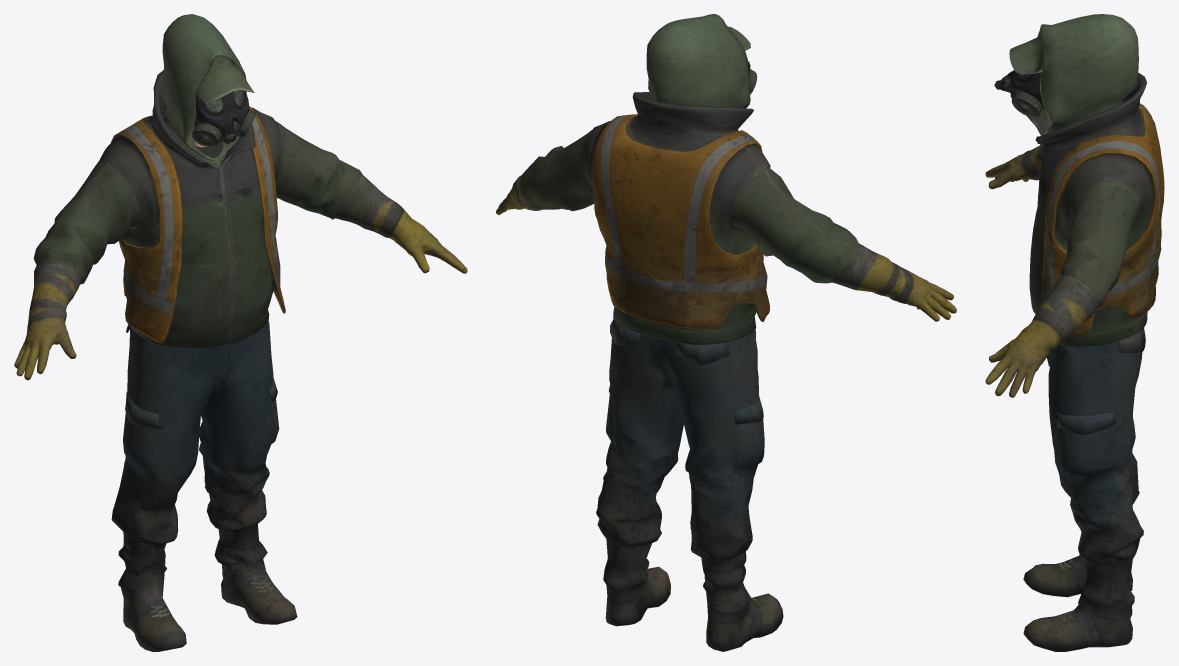
The model's file is incineradorv2.FBX.
3 renders of one model, left to right at view 1: azimuth 30°, elevation 25°; view 2: azimuth 150°, elevation 25°; view 3: azimuth 270°, elevation 25°, orthographic.
Visible parts, largest first — view 1: cn_shield; view 2: cn_shield; view 3: cn_shield.
Boxes of the visible parts, <box> form: cn_shield: <box>14,14,467,651</box>; cn_shield: <box>496,14,956,651</box>; cn_shield: <box>985,14,1164,651</box>.
Bounding box in the file's own units: 45.65 × 58.69 × 15.81.
Materials: 10 (10 with a texture image).
